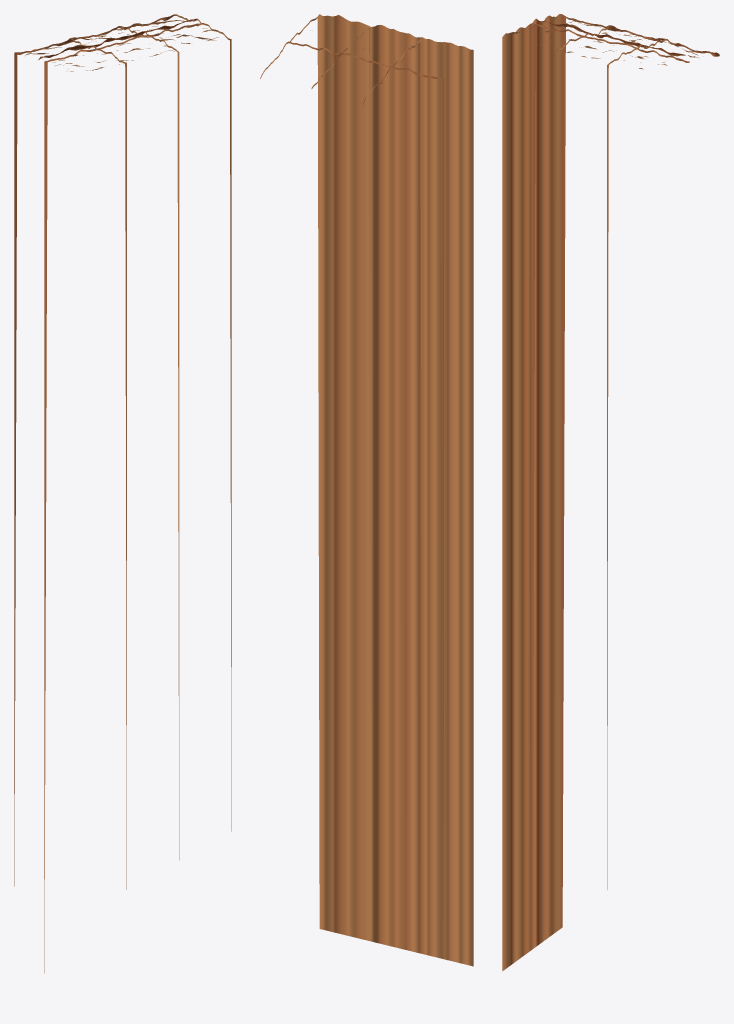
File: terrain-117.glb
3 renders of one model, left to right at view 1: azimuth 30°, elevation 25°; view 2: azimuth 150°, elevation 25°; view 3: azimuth 330°, elevation 25°, orthographic.
Parts seen in each view (by area): view 1: terrain-117; view 2: terrain-117; view 3: terrain-117.
Part boxes in pixels (x1,y1,x2,y2): terrain-117: (14, 14, 231, 973); terrain-117: (260, 14, 473, 966); terrain-117: (502, 14, 719, 971).
Size of the model in its own units: 384 by 2188 by 256.
